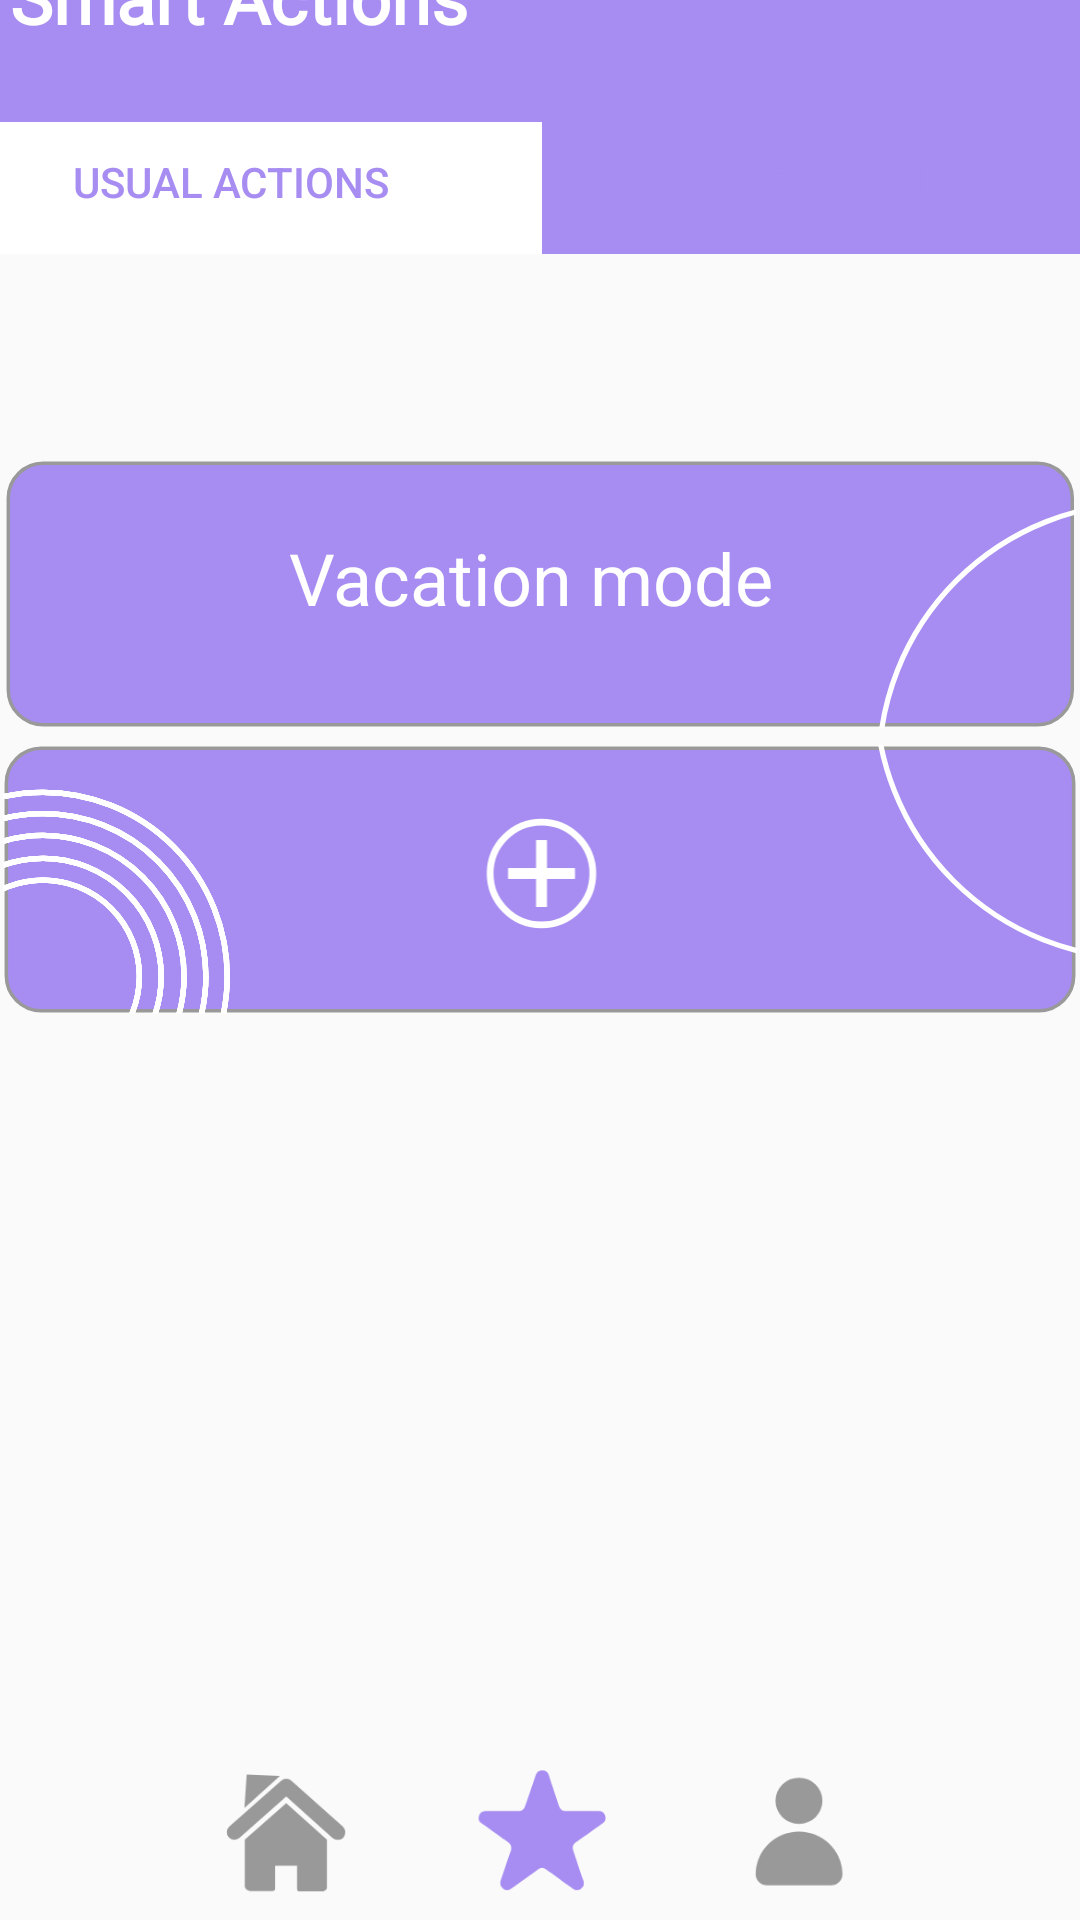

Icon click points for this 1080×1920 phone screenshot, format point (x, y):
plus: point (541, 873)
profile: point (799, 1831)
